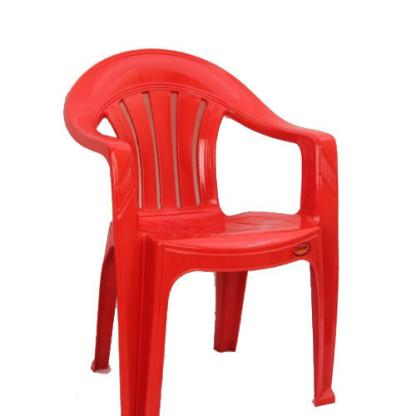chair: (62, 43, 342, 415)
